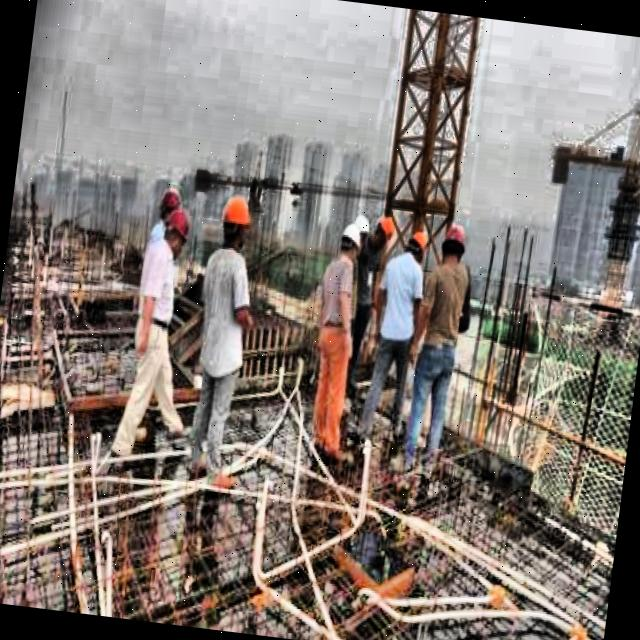helmet: (216, 194, 255, 256), (396, 225, 432, 278), (437, 219, 469, 276), (158, 206, 190, 262), (333, 222, 364, 269), (153, 180, 180, 228), (350, 208, 376, 257), (368, 212, 398, 254)
